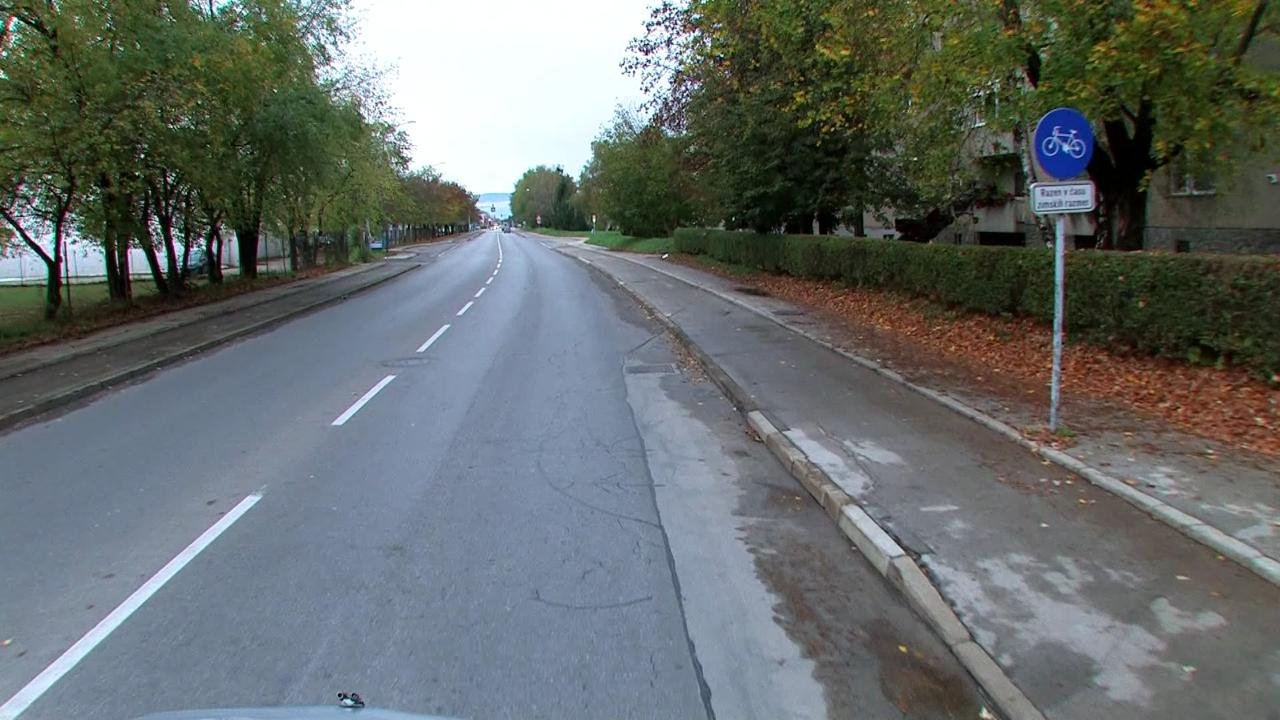Rectangle: (1034, 184, 1096, 214)
Round: (1034, 105, 1096, 178)
